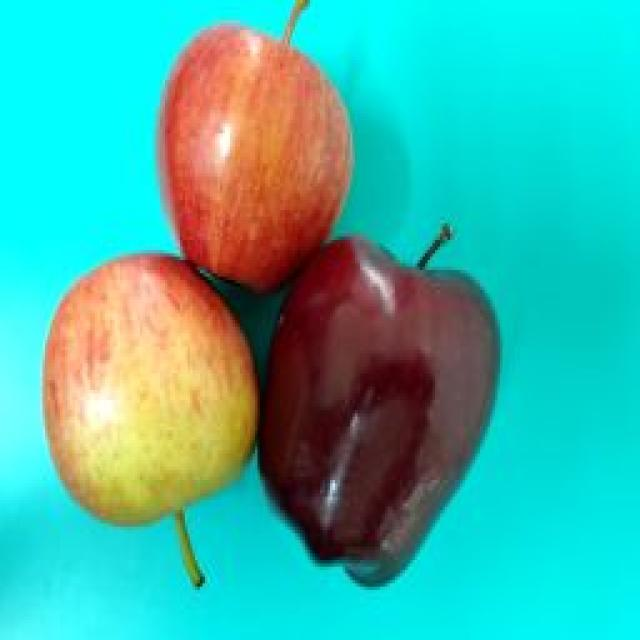Good_Apple: (255, 237, 502, 590), (42, 253, 258, 530), (155, 23, 352, 297)
